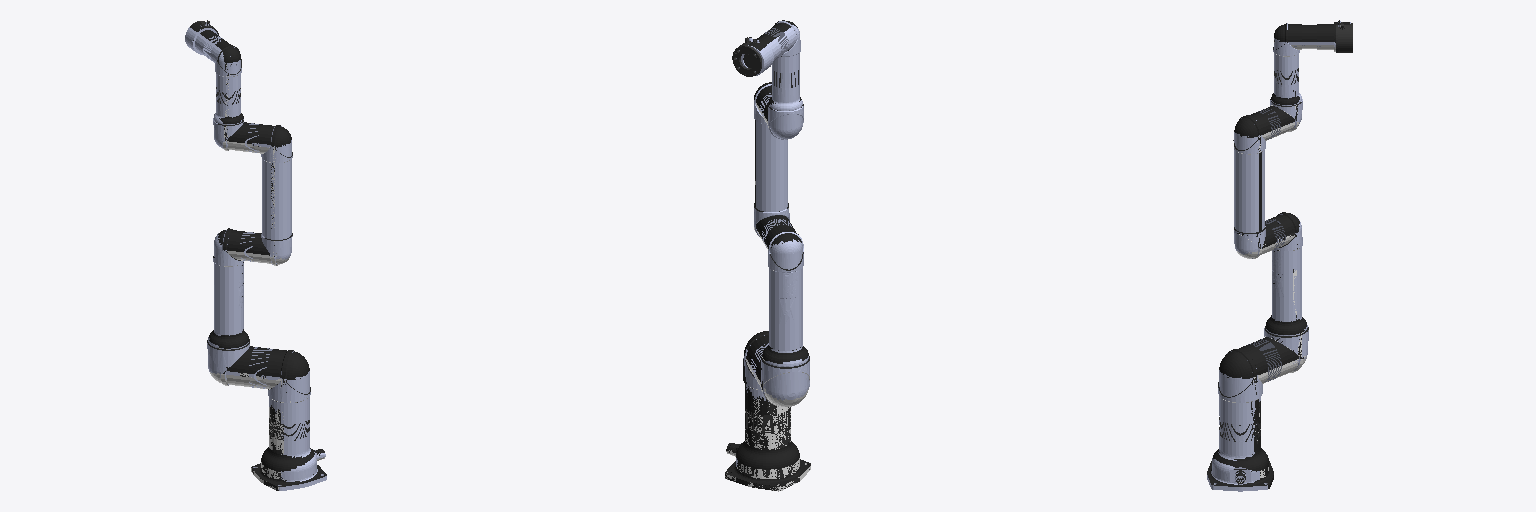
URDF robot description (robot_no_gripper.SLDASM):
<?xml version="1.0" encoding="utf-8"?>
<!-- This URDF was automatically created by SolidWorks to URDF Exporter! Originally created by [author] ([email redacted]) 
     Commit Version: 1.6.0-4-g7f85cfe  Build Version: 1.6.7995.38578
     For more information, please see http://wiki.ros.org/sw_urdf_exporter -->
<robot
  name="robot_no_gripper.SLDASM">
  <link
    name="base_link">
    <inertial>
      <origin
        xyz="0.00052883 0.065606 4.739E-08"
        rpy="0 0 0" />
      <mass
        value="1.3785" />
      <inertia
        ixx="0.0019643"
        ixy="-1.8781E-06"
        ixz="-2.772E-09"
        iyy="0.0020096"
        iyz="-5.89E-10"
        izz="0.0019566" />
    </inertial>
    <visual>
      <origin
        xyz="0 0 0"
        rpy="0 0 0" />
      <geometry>
        <mesh
          filename="package://robot_no_gripper.SLDASM/meshes/base_link.STL" />
      </geometry>
      <material
        name="">
        <color
          rgba="0.79216 0.81961 0.93333 1" />
      </material>
    </visual>
    <collision>
      <origin
        xyz="0 0 0"
        rpy="0 0 0" />
      <geometry>
        <mesh
          filename="package://robot_no_gripper.SLDASM/meshes/base_link.STL" />
      </geometry>
    </collision>
  </link>
  <link
    name="link1">
    <inertial>
      <origin
        xyz="-4.4701E-08 0.06629 -0.04822"
        rpy="0 0 0" />
      <mass
        value="0.93289" />
      <inertia
        ixx="0.0013929"
        ixy="2.3048E-09"
        ixz="-1.3711E-09"
        iyy="0.0014071"
        iyz="1.9525E-06"
        izz="0.00099172" />
    </inertial>
    <visual>
      <origin
        xyz="0 0 0"
        rpy="0 0 0" />
      <geometry>
        <mesh
          filename="package://robot_no_gripper.SLDASM/meshes/link1.STL" />
      </geometry>
      <material
        name="">
        <color
          rgba="1 1 1 1" />
      </material>
    </visual>
    <collision>
      <origin
        xyz="0 0 0"
        rpy="0 0 0" />
      <geometry>
        <mesh
          filename="package://robot_no_gripper.SLDASM/meshes/link1.STL" />
      </geometry>
    </collision>
  </link>
  <joint
    name="joint1"
    type="revolute">
    <origin
      xyz="0 0 0.15719"
      rpy="1.5708 0 0.77334" />
    <parent
      link="base_link" />
    <child
      link="link1" />
    <axis
      xyz="0 1 0" />
    <limit
      lower="0"
      upper="0"
      effort="0"
      velocity="0" />
  </joint>
  <link
    name="link2">
    <inertial>
      <origin
        xyz="5.7084E-08 0.16627 -0.12481"
        rpy="0 0 0" />
      <mass
        value="1.3179" />
      <inertia
        ixx="0.0059696"
        ixy="-3.4502E-09"
        ixz="5.2844E-09"
        iyy="0.0012808"
        iyz="-6.8927E-05"
        izz="0.0056022" />
    </inertial>
    <visual>
      <origin
        xyz="0 0 0"
        rpy="0 0 0" />
      <geometry>
        <mesh
          filename="package://robot_no_gripper.SLDASM/meshes/link2.STL" />
      </geometry>
      <material
        name="">
        <color
          rgba="0.24314 0.24314 0.24314 1" />
      </material>
    </visual>
    <collision>
      <origin
        xyz="0 0 0"
        rpy="0 0 0" />
      <geometry>
        <mesh
          filename="package://robot_no_gripper.SLDASM/meshes/link2.STL" />
      </geometry>
    </collision>
  </link>
  <joint
    name="joint2"
    type="revolute">
    <origin
      xyz="0 0.073909 0"
      rpy="0 0 0" />
    <parent
      link="link1" />
    <child
      link="link2" />
    <axis
      xyz="0 0 1" />
    <limit
      lower="0"
      upper="0"
      effort="0"
      velocity="0" />
  </joint>
  <link
    name="link3">
    <inertial>
      <origin
        xyz="-8.8685E-08 0.16814 -0.039356"
        rpy="0 0 0" />
      <mass
        value="1.1005" />
      <inertia
        ixx="0.0035891"
        ixy="-2.6063E-09"
        ixz="9.9364E-10"
        iyy="0.0010193"
        iyz="5.8848E-05"
        izz="0.0031614" />
    </inertial>
    <visual>
      <origin
        xyz="0 0 0"
        rpy="0 0 0" />
      <geometry>
        <mesh
          filename="package://robot_no_gripper.SLDASM/meshes/link3.STL" />
      </geometry>
      <material
        name="">
        <color
          rgba="0.24314 0.24314 0.24314 1" />
      </material>
    </visual>
    <collision>
      <origin
        xyz="0 0 0"
        rpy="0 0 0" />
      <geometry>
        <mesh
          filename="package://robot_no_gripper.SLDASM/meshes/link3.STL" />
      </geometry>
    </collision>
  </link>
  <joint
    name="joint3"
    type="revolute">
    <origin
      xyz="0 0.2845 0"
      rpy="0 0 0" />
    <parent
      link="link2" />
    <child
      link="link3" />
    <axis
      xyz="0 0 1" />
    <limit
      lower="0"
      upper="0"
      effort="0"
      velocity="0" />
  </joint>
  <link
    name="link4">
    <inertial>
      <origin
        xyz="-7.3628E-08 0.068878 -0.0838"
        rpy="0 0 0" />
      <mass
        value="0.33399" />
      <inertia
        ixx="0.00074999"
        ixy="-8.0761E-10"
        ixz="-1.9511E-09"
        iyy="0.00014122"
        iyz="-4.2265E-06"
        izz="0.00076699" />
    </inertial>
    <visual>
      <origin
        xyz="0 0 0"
        rpy="0 0 0" />
      <geometry>
        <mesh
          filename="package://robot_no_gripper.SLDASM/meshes/link4.STL" />
      </geometry>
      <material
        name="">
        <color
          rgba="0.79216 0.81961 0.93333 1" />
      </material>
    </visual>
    <collision>
      <origin
        xyz="0 0 0"
        rpy="0 0 0" />
      <geometry>
        <mesh
          filename="package://robot_no_gripper.SLDASM/meshes/link4.STL" />
      </geometry>
    </collision>
  </link>
  <joint
    name="joint4"
    type="revolute">
    <origin
      xyz="0 0.259 -0.051491"
      rpy="0 0 0" />
    <parent
      link="link3" />
    <child
      link="link4" />
    <axis
      xyz="0 0 1" />
    <limit
      lower="0"
      upper="0"
      effort="0"
      velocity="0" />
  </joint>
  <link
    name="link5">
    <inertial>
      <origin
        xyz="-4.2455E-08 0.04202 -0.032032"
        rpy="0 0 0" />
      <mass
        value="0.28635" />
      <inertia
        ixx="0.00040931"
        ixy="-1.0579E-10"
        ixz="4.7361E-10"
        iyy="0.00039293"
        iyz="3.5569E-05"
        izz="0.00012323" />
    </inertial>
    <visual>
      <origin
        xyz="0 0 0"
        rpy="0 0 0" />
      <geometry>
        <mesh
          filename="package://robot_no_gripper.SLDASM/meshes/link5.STL" />
      </geometry>
      <material
        name="">
        <color
          rgba="0.18039 0.18039 0.18039 1" />
      </material>
    </visual>
    <collision>
      <origin
        xyz="0 0 0"
        rpy="0 0 0" />
      <geometry>
        <mesh
          filename="package://robot_no_gripper.SLDASM/meshes/link5.STL" />
      </geometry>
    </collision>
  </link>
  <joint
    name="join5"
    type="revolute">
    <origin
      xyz="0 0.13684 -0.083609"
      rpy="0 -0.77334 0" />
    <parent
      link="link4" />
    <child
      link="link5" />
    <axis
      xyz="0 1 0" />
    <limit
      lower="0"
      upper="0"
      effort="0"
      velocity="0" />
  </joint>
  <link
    name="link6">
    <inertial>
      <origin
        xyz="6.1086E-05 0.00050039 -0.022568"
        rpy="0 0 0" />
      <mass
        value="0.065353" />
      <inertia
        ixx="2.8836E-05"
        ixy="6.9117E-09"
        ixz="-7.6528E-08"
        iyy="2.884E-05"
        iyz="2.1228E-08"
        izz="3.5117E-05" />
    </inertial>
    <visual>
      <origin
        xyz="0 0 0"
        rpy="0 0 0" />
      <geometry>
        <mesh
          filename="package://robot_no_gripper.SLDASM/meshes/link6.STL" />
      </geometry>
      <material
        name="">
        <color
          rgba="0.24314 0.24314 0.24314 1" />
      </material>
    </visual>
    <collision>
      <origin
        xyz="0 0 0"
        rpy="0 0 0" />
      <geometry>
        <mesh
          filename="package://robot_no_gripper.SLDASM/meshes/link6.STL" />
      </geometry>
    </collision>
  </link>
  <joint
    name="joint6"
    type="revolute">
    <origin
      xyz="0 0.045662 -0.0912"
      rpy="0 0 0" />
    <parent
      link="link5" />
    <child
      link="link6" />
    <axis
      xyz="0 0 1" />
    <limit
      lower="0"
      upper="0"
      effort="0"
      velocity="0" />
  </joint>
</robot>

--- Facts derived from the render (not from the file) ---
3 views of the same robot in one strip: view 1: azimuth 30°, elevation 25°; view 2: azimuth 150°, elevation 25°; view 3: azimuth 270°, elevation 25° (orthographic).
Robot: robot_no_gripper.SLDASM — 7 links, 6 joints (6 revolute); root link base_link; default pose: all joints at 0.
Links seen in each view (by area): view 1: link5, link4, base_link, link1; view 2: base_link, link5, link1, link6, link2; view 3: link4, link5, base_link, link1.
Boxes of the visible links, bbox=[...] form: link5: bbox=[190, 22, 326, 488]; link4: bbox=[192, 23, 323, 485]; base_link: bbox=[185, 22, 326, 490]; link1: bbox=[210, 65, 324, 489]; base_link: bbox=[736, 21, 809, 466]; link5: bbox=[725, 20, 810, 489]; link1: bbox=[725, 103, 810, 491]; link6: bbox=[732, 37, 761, 76]; link2: bbox=[726, 381, 810, 490]; link4: bbox=[1218, 22, 1339, 483]; link5: bbox=[1207, 20, 1349, 488]; base_link: bbox=[1207, 21, 1350, 491]; link1: bbox=[1223, 25, 1340, 482].
Size in the robot's own frame: 0.2253 by 0.3054 by 1.01 metres.
7 mesh visuals loaded from 7 distinct referenced files (7 binary STL).